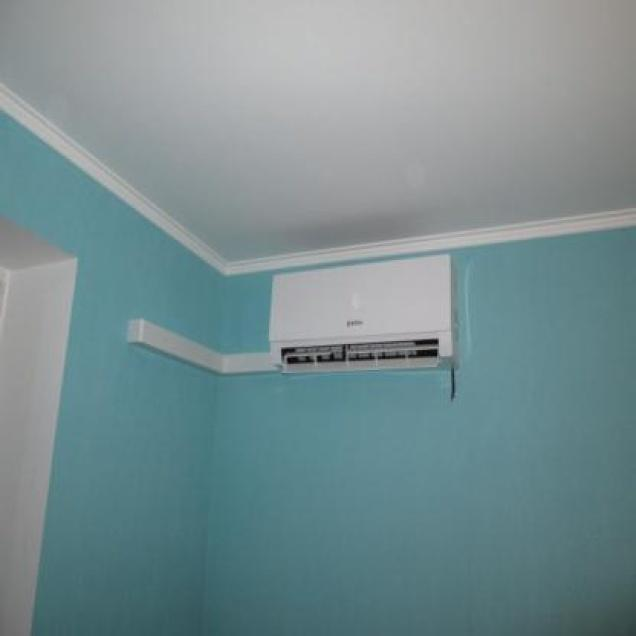AC: (263, 253, 459, 376)
